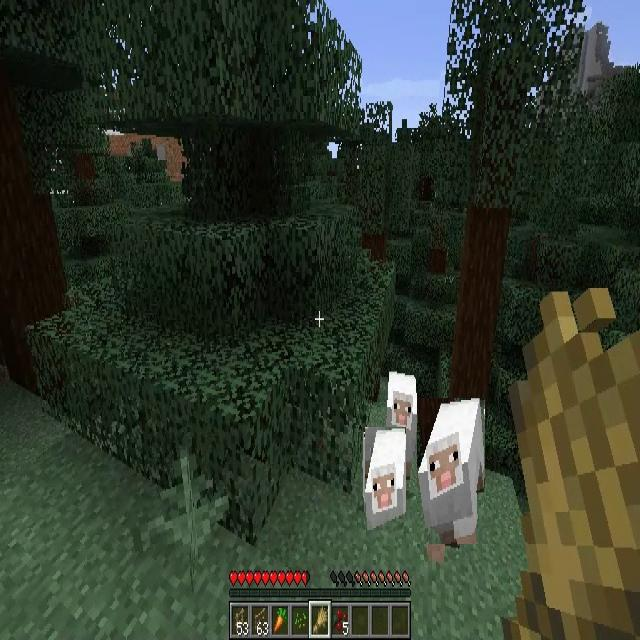sheep: (417, 398, 485, 544), (365, 427, 406, 530), (388, 370, 416, 475)
